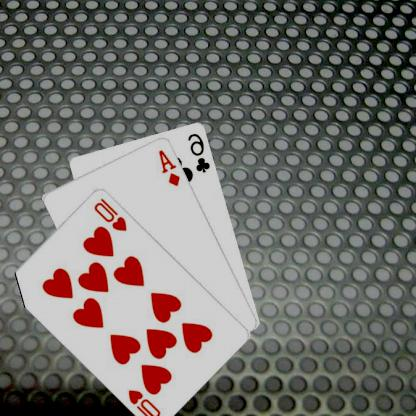10H: (93, 195, 130, 233), (127, 386, 164, 416)
6C: (187, 130, 214, 173)
AD: (158, 146, 184, 188)
